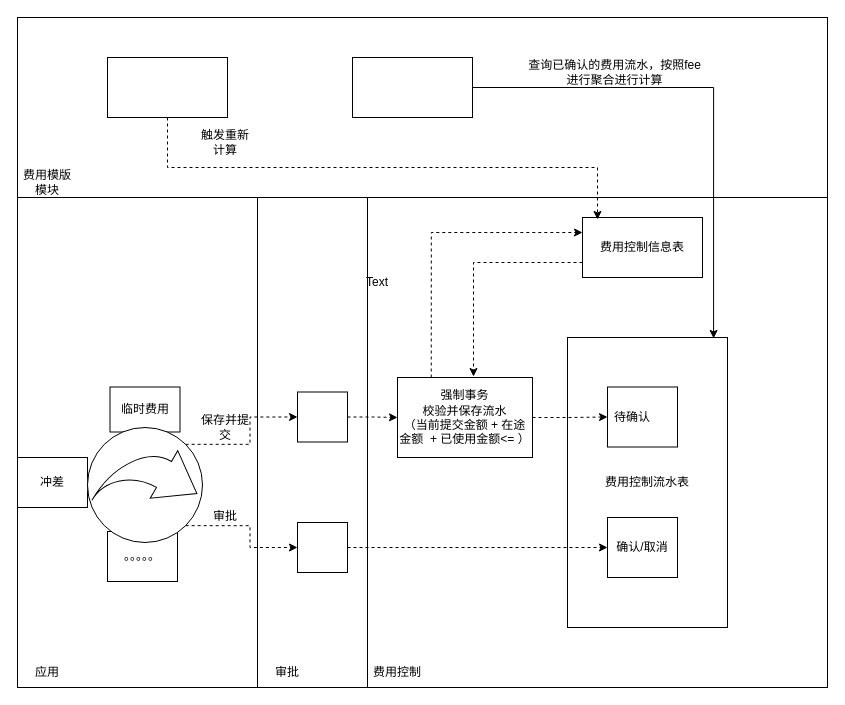
Image size: 845x705. Some labels were removed from this diagram. Each missing label, with the centre of its shape:
创建事件: pixel 322 416
结束事件: pixel 322 547
自动计算费用: pixel 412 87
费用模版审批通过: pixel 167 87
